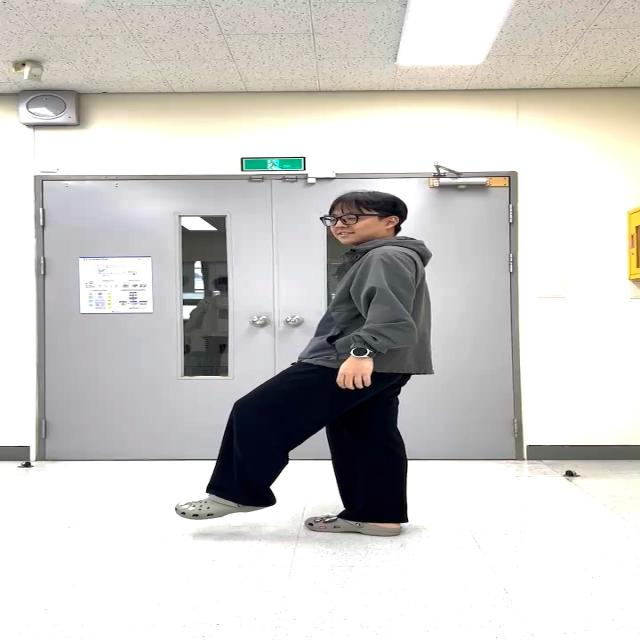leg: (192, 355, 324, 518)
